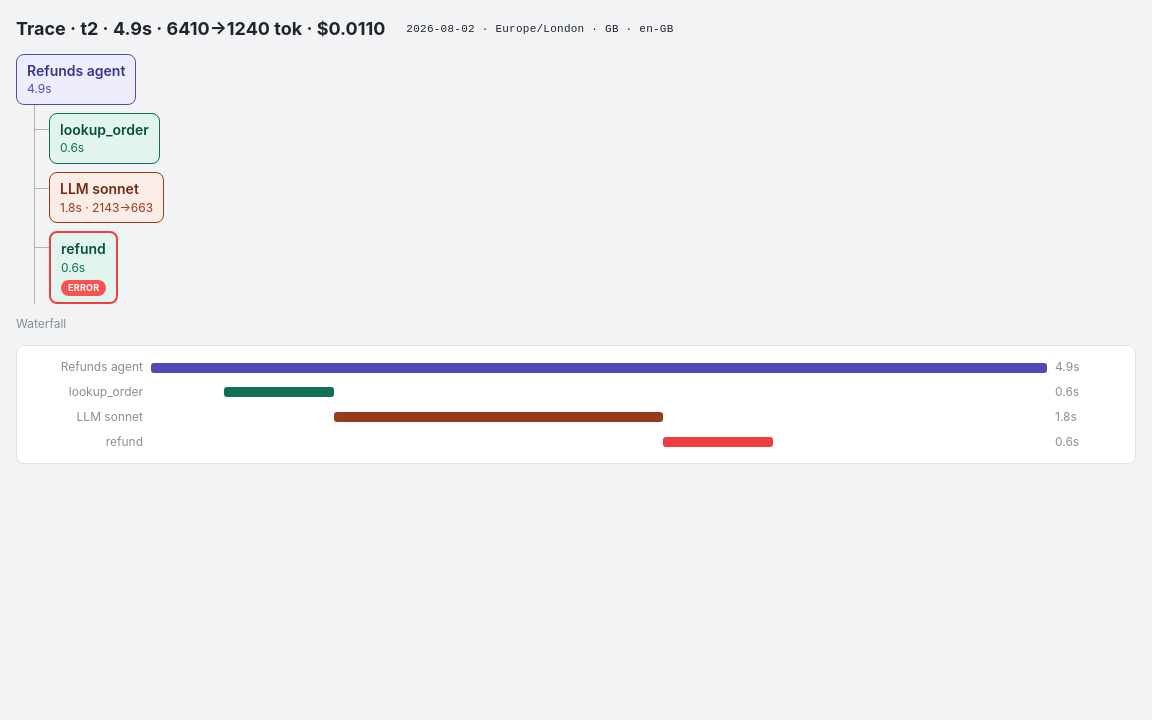
Test: TracePage › clicking a waterfall bar selects the tree node; tool payload renders args/result JSON
The image size is (1152, 720).
Check: the element with test id "waterfall" is shown, box [16,345,1136,464]
What coordinates should you click on to do the following:
click the button with test id "wf-bar-1"
I would click on:
 (106, 392)
Its box is [29,383,1123,402].
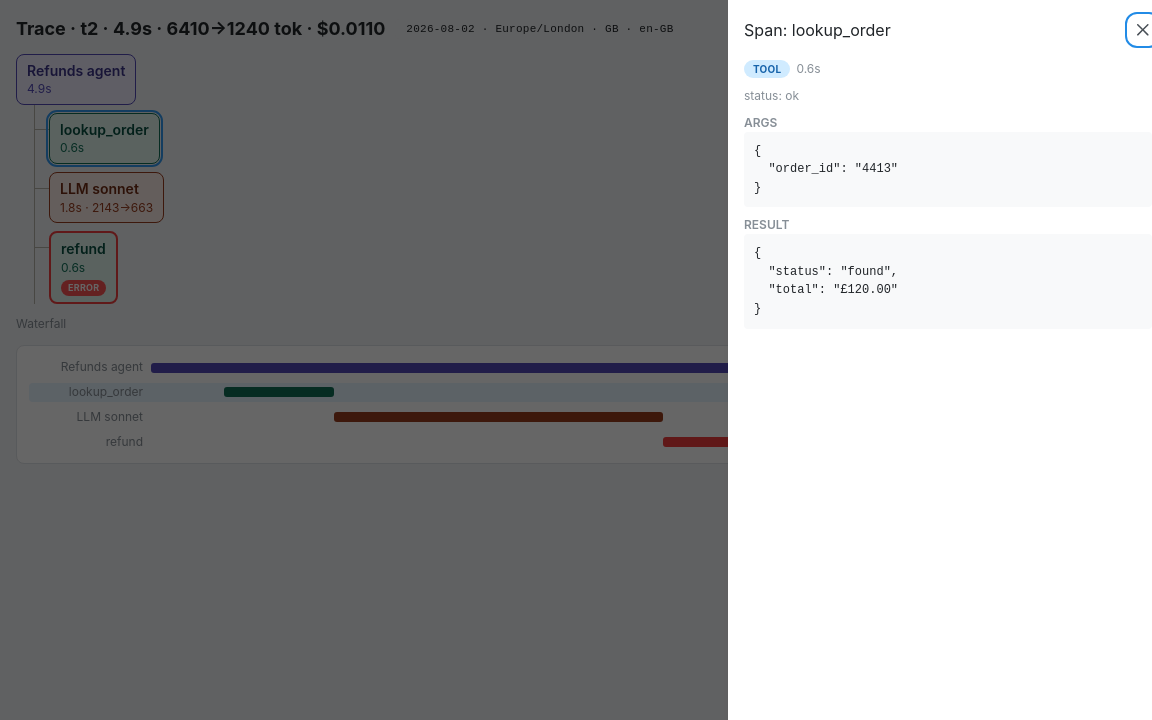
Check: the text "ARGS" is shown, box [744,115,777,130]
Check: the text "{ \"order_id\": \"4413\" }" is shown, box [744,132,1151,207]
Check: the text "RESULT" is shown, box [744,217,789,232]
